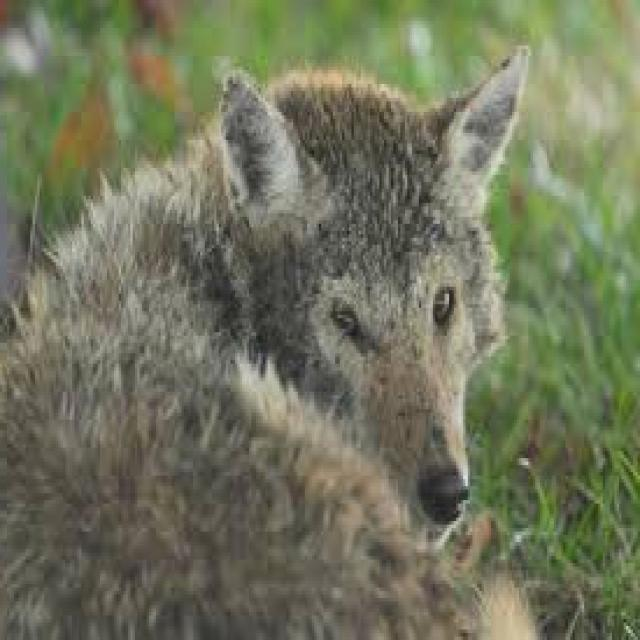coyote: (2, 49, 538, 637)
